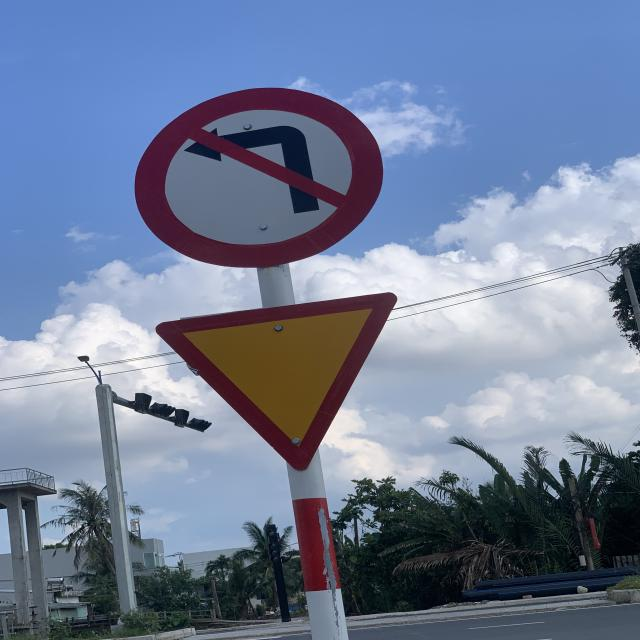Cam_Re_Trai: (132, 86, 385, 261)
Gioi_Han_Toc_Do_25: (165, 288, 394, 466)
